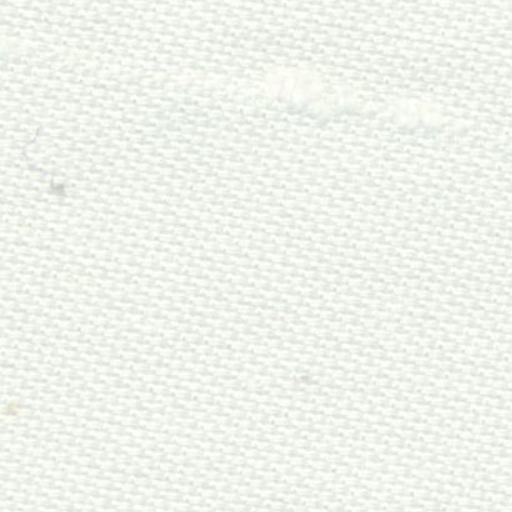DaiSha: (56, 26, 472, 147)
